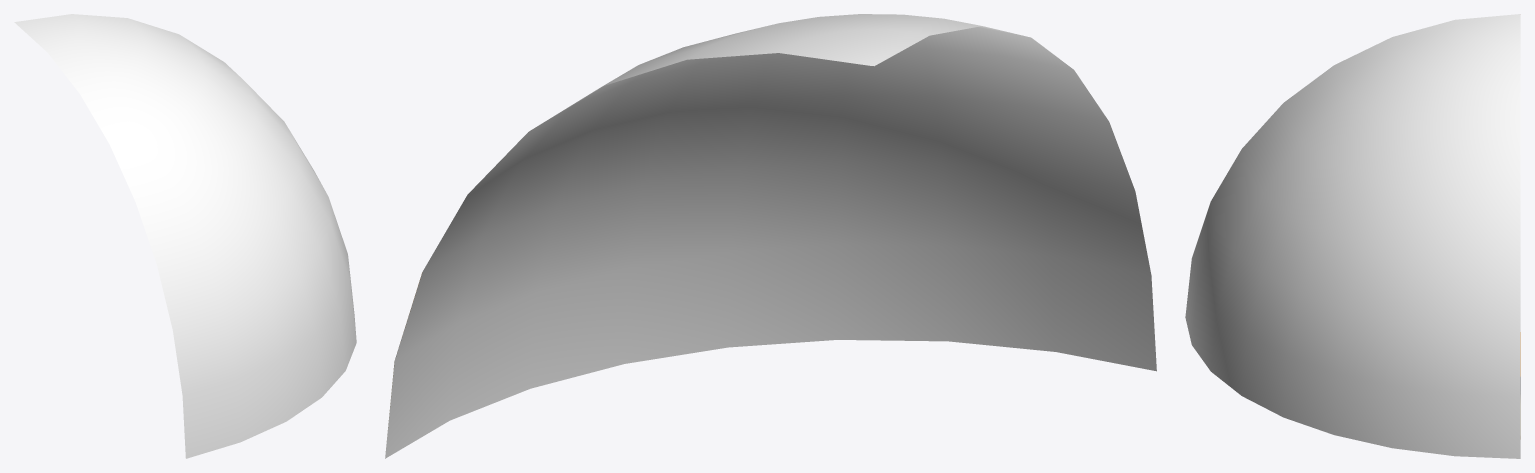
Rendered from r4c1_face_white.gltf.
The picture shows the model from 3 angles, left to right: view 1: azimuth 30°, elevation 25°; view 2: azimuth 150°, elevation 25°; view 3: azimuth 270°, elevation 25°; orthographic projection. The views are drawn at different scales.
Visible parts, largest first — view 1: r4c1_face_white; view 2: r4c1_face_white; view 3: r4c1_face_white.
Part boxes in pixels (bbox=[...]): r4c1_face_white: bbox=[14, 14, 356, 458]; r4c1_face_white: bbox=[385, 14, 1156, 458]; r4c1_face_white: bbox=[1185, 14, 1520, 458].
Size of the model in its own units: 2 by 2 by 2.
Materials: 1 (1 with a texture image).
